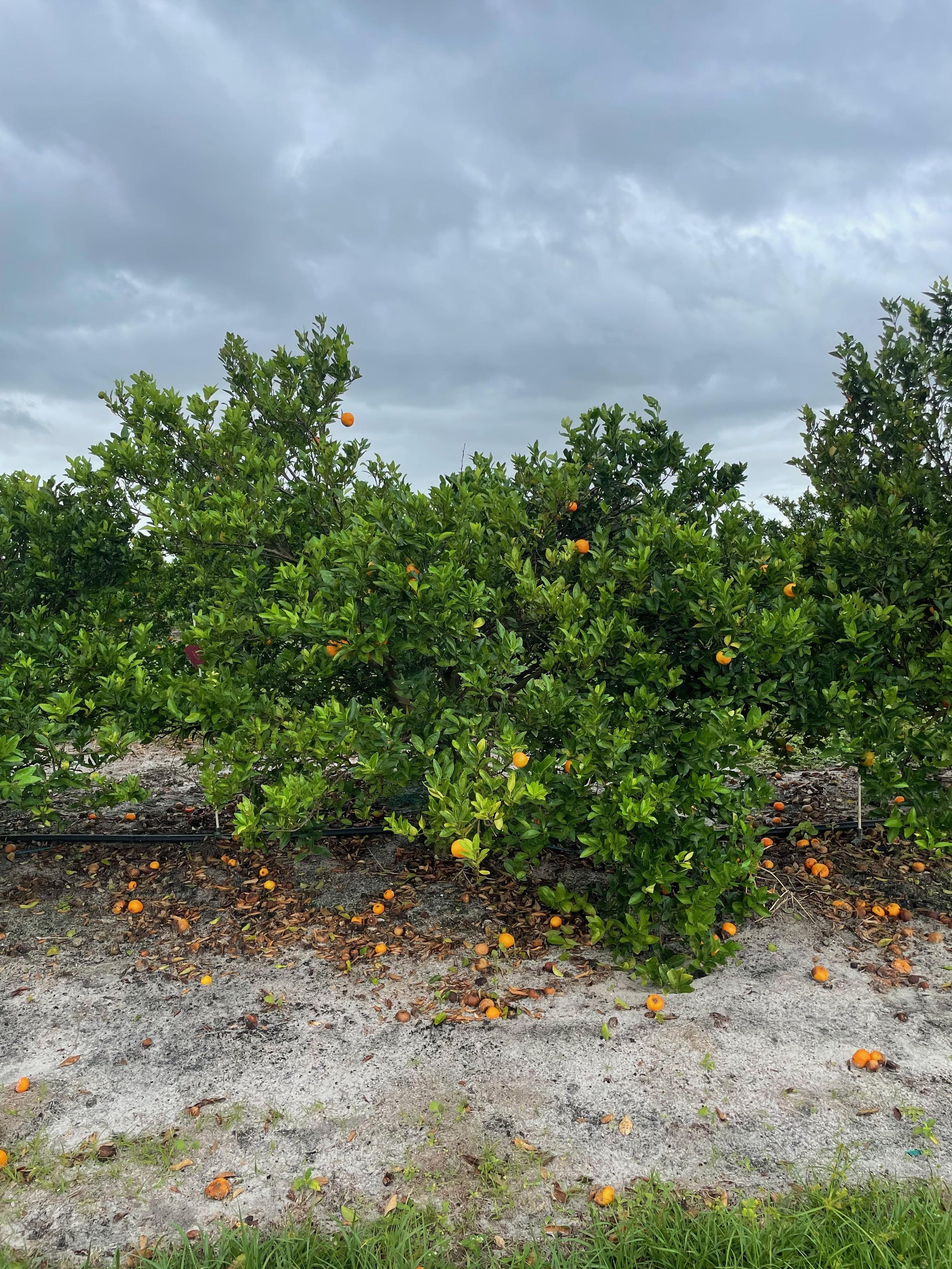fruit_on_ground: (450, 838, 473, 860), (335, 634, 357, 657), (325, 636, 346, 659), (782, 580, 802, 600), (370, 630, 390, 649), (563, 757, 582, 776), (404, 561, 423, 579), (511, 750, 529, 769), (714, 648, 733, 666), (859, 749, 877, 767), (572, 538, 591, 555), (340, 412, 355, 427), (773, 735, 787, 749), (565, 500, 579, 513), (782, 743, 794, 756)
fruit_on_tree: (592, 1183, 617, 1208), (644, 993, 666, 1013), (95, 1142, 117, 1161), (811, 963, 831, 983), (852, 1047, 871, 1066), (14, 1074, 32, 1094), (173, 916, 192, 934), (497, 931, 516, 949), (811, 862, 831, 879), (720, 919, 738, 936), (885, 900, 902, 917), (471, 957, 490, 972), (461, 991, 480, 1006), (444, 988, 461, 1004), (127, 898, 144, 914), (483, 1004, 501, 1019), (0, 1145, 10, 1172), (111, 898, 127, 914), (870, 1047, 886, 1063), (478, 998, 495, 1013), (394, 1007, 411, 1022), (473, 941, 490, 956), (865, 1058, 883, 1072), (548, 913, 564, 928), (2, 841, 18, 856), (872, 902, 887, 917), (199, 972, 214, 987), (369, 900, 385, 914), (349, 913, 364, 927), (543, 960, 558, 974), (262, 877, 277, 891), (927, 930, 943, 943), (803, 855, 819, 868), (382, 886, 396, 900), (900, 924, 915, 937), (898, 909, 913, 922), (910, 860, 926, 872), (86, 860, 100, 873), (375, 940, 388, 954), (527, 988, 542, 1000), (815, 843, 830, 855), (392, 923, 405, 936), (126, 877, 139, 890), (542, 984, 556, 996), (761, 858, 775, 870), (795, 837, 809, 849), (147, 858, 161, 870), (172, 800, 185, 812), (761, 836, 774, 848), (773, 800, 786, 812), (892, 793, 906, 804), (124, 810, 138, 821), (258, 866, 271, 877), (184, 804, 198, 814), (772, 812, 784, 823), (799, 802, 811, 813), (86, 812, 98, 822), (226, 858, 239, 867)
